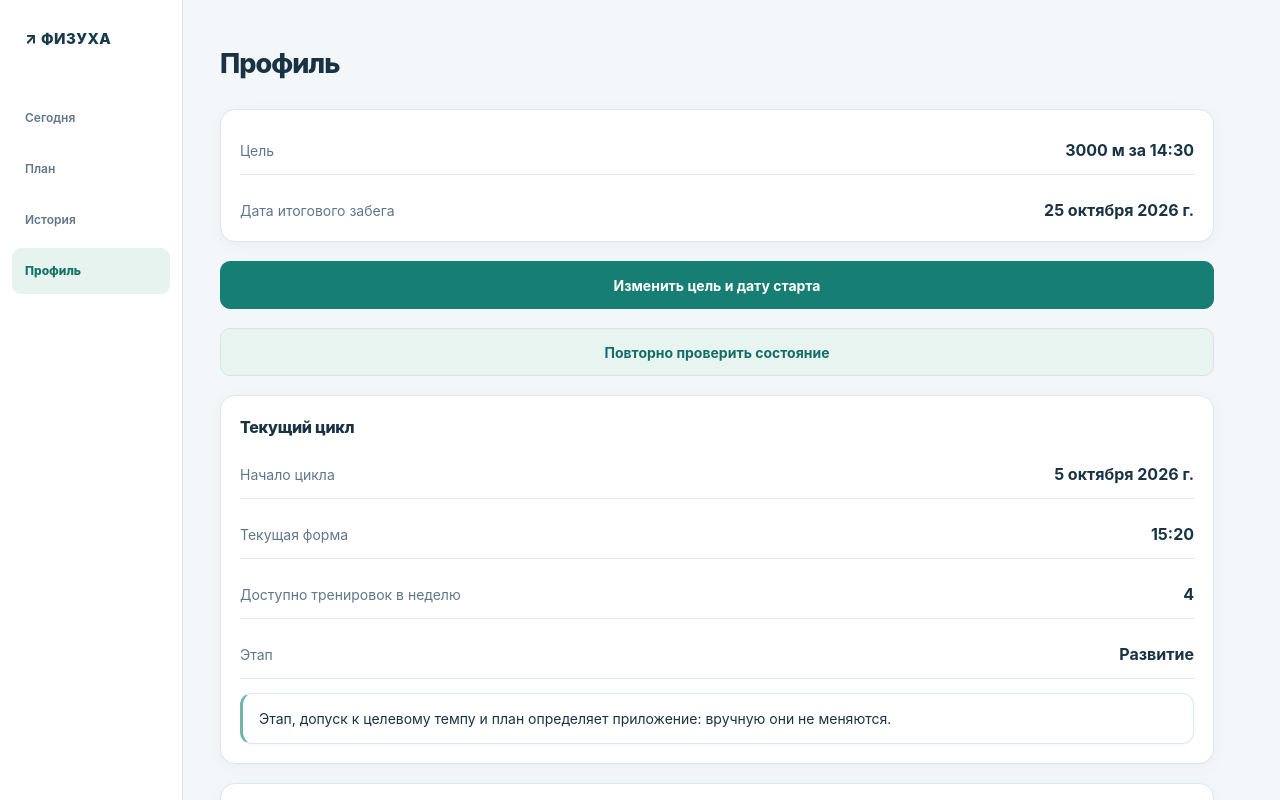
Scenario: pending workouts block parameter changes and previous state remains saved
Click the button "Изменить цель и дату старта" at [717, 285], box [220,261,1214,309]
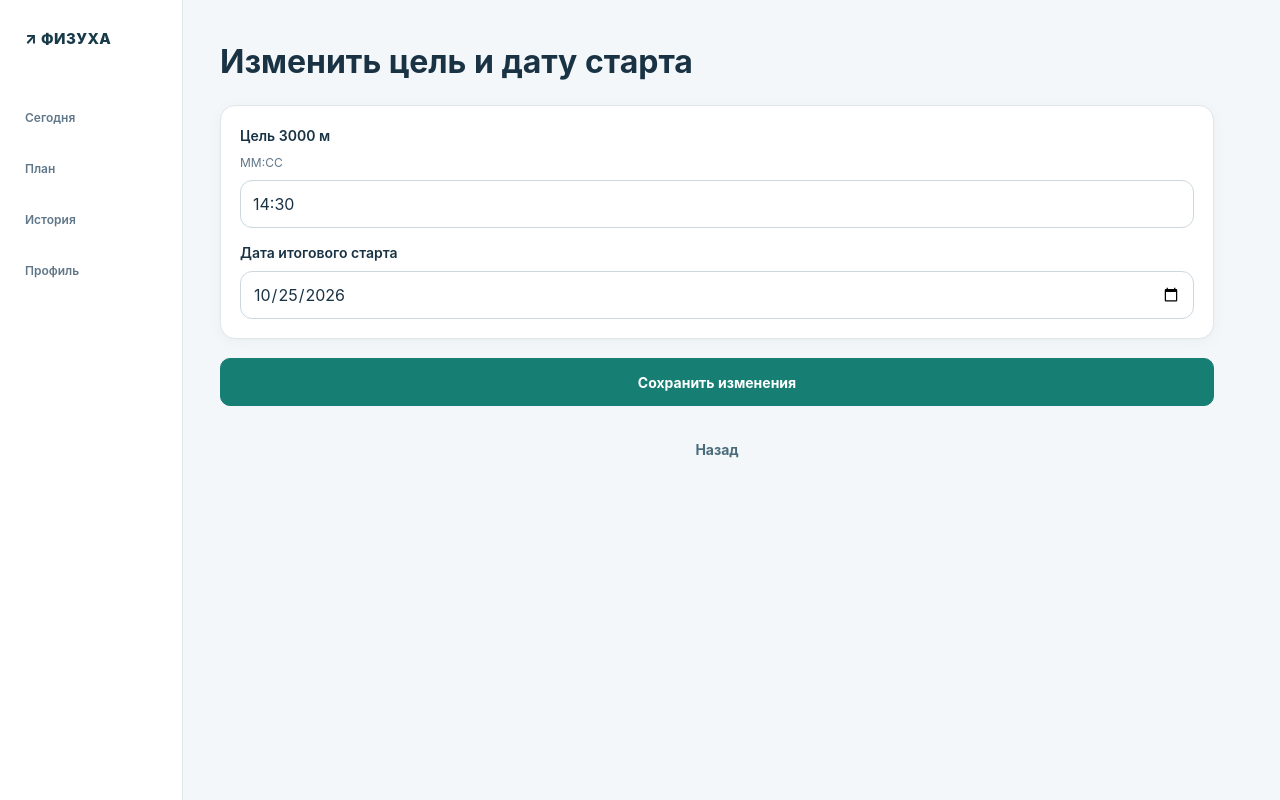
Replace the text in the field labelled "Цель 3000 м" with "14:50" at [717, 204], box [240,180,1194,228]
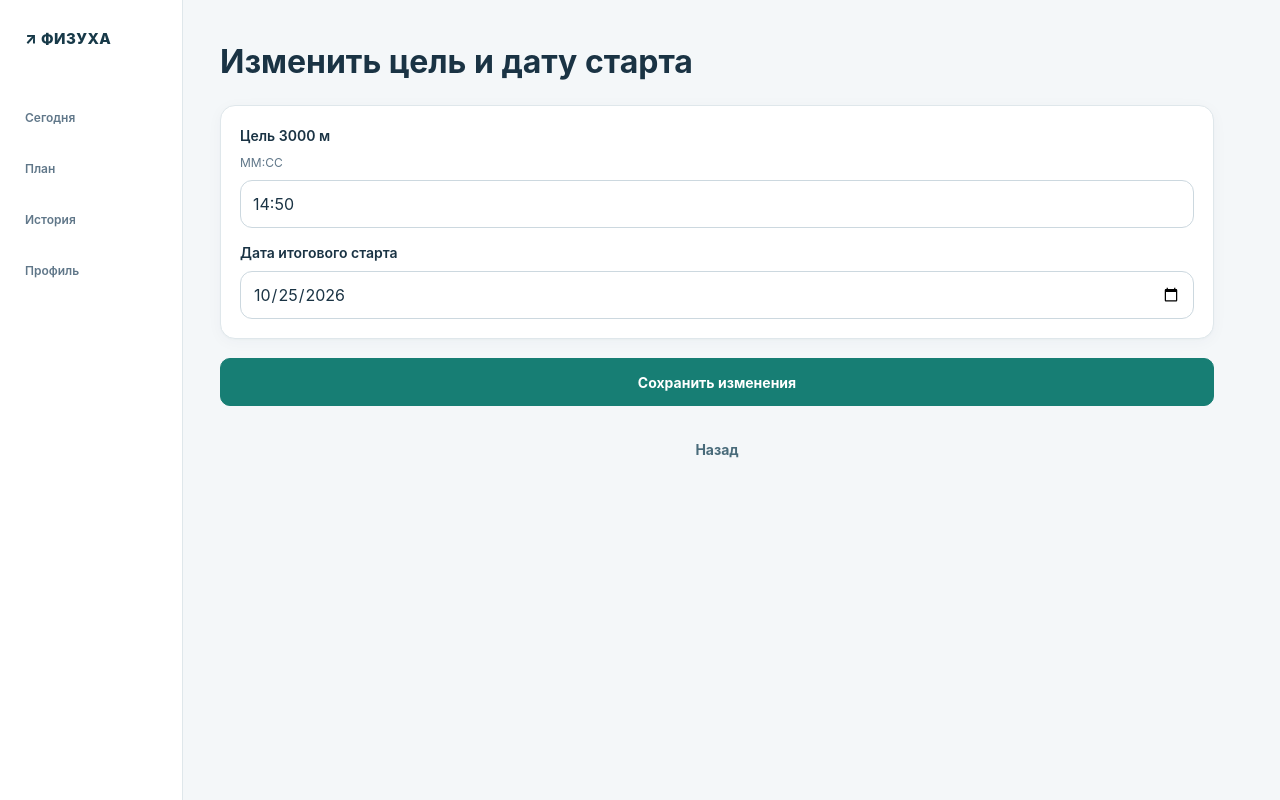
Click the button "Сохранить изменения" at [717, 382], box [220,358,1214,406]
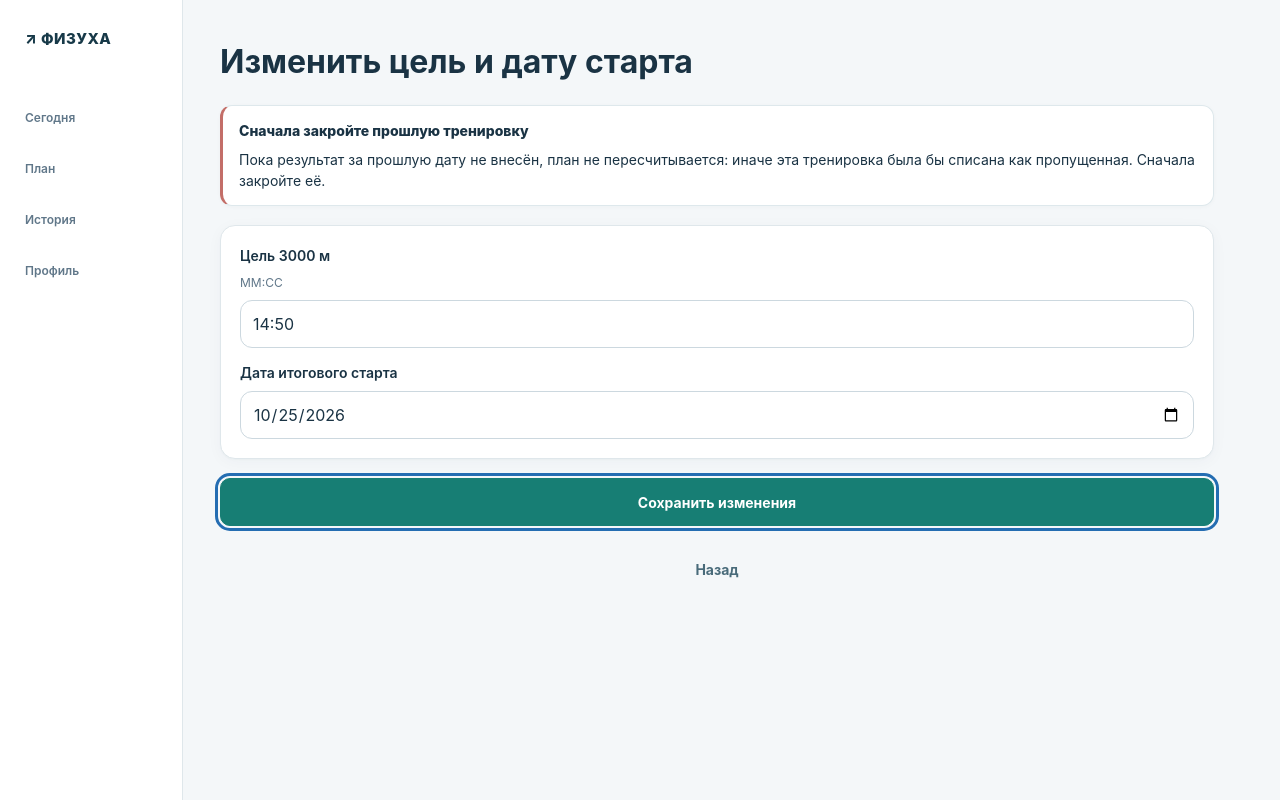
Result: the text "Сначала закройте прошлую тренировку" is shown at [239,122,529,139]
